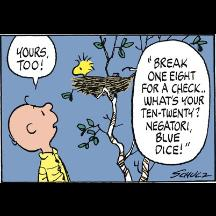charlie: (6, 94, 72, 182)
